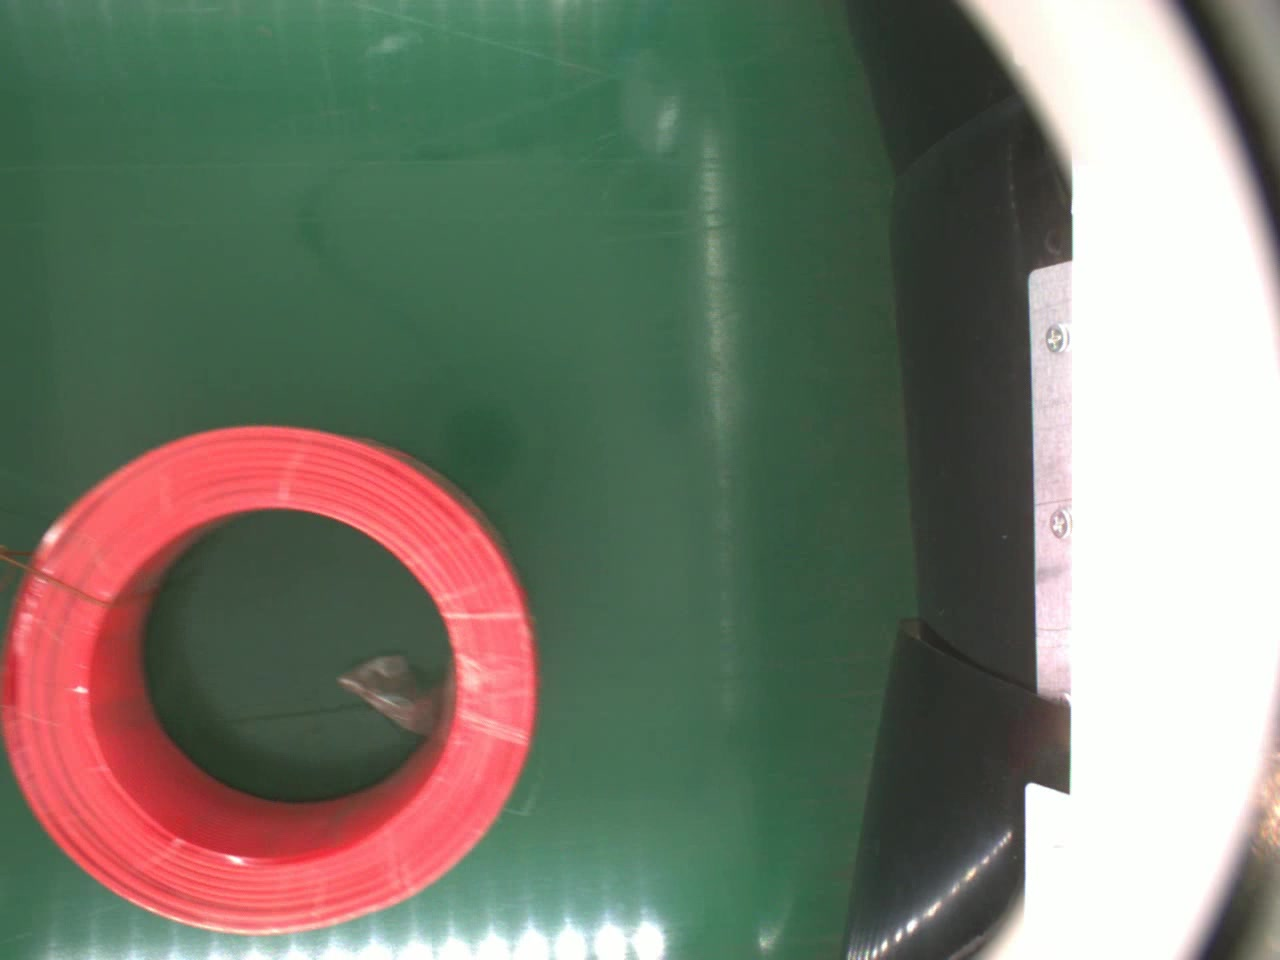red: (0, 419, 538, 937)
